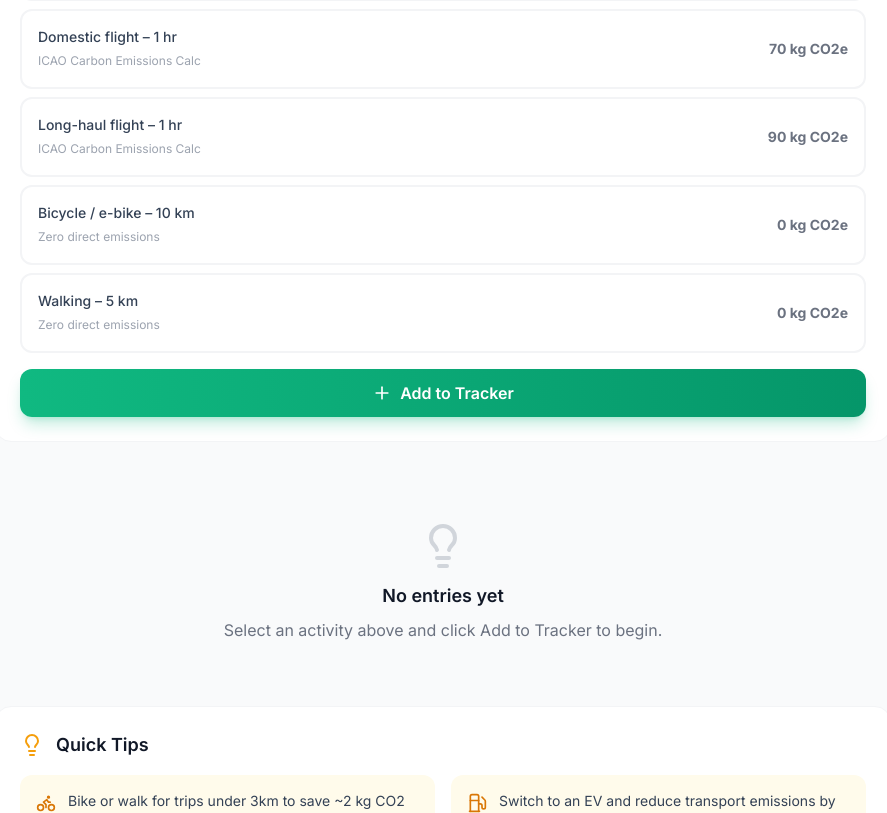
Calculator › adds an entry when clicking Add to Tracker
(page scrolled)
Click the button "Add to Tracker". click: (443, 393)
box: [20,369,866,417]
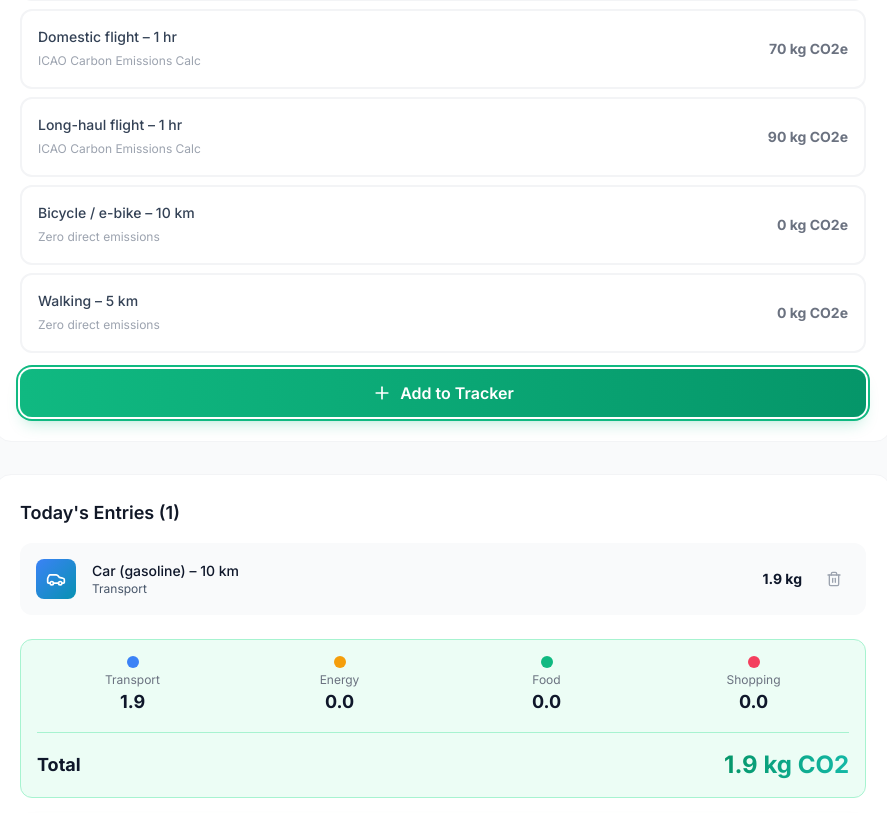
Check: the heading "Today's Entries (1)" is shown, box [20,502,180,523]
